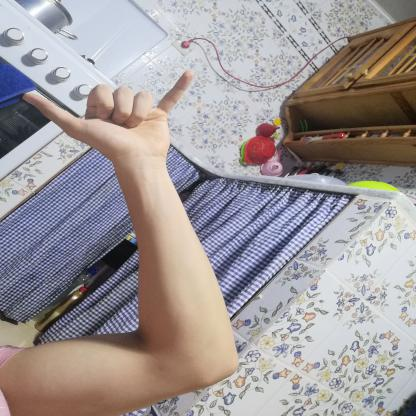YA: (9, 59, 204, 173)
